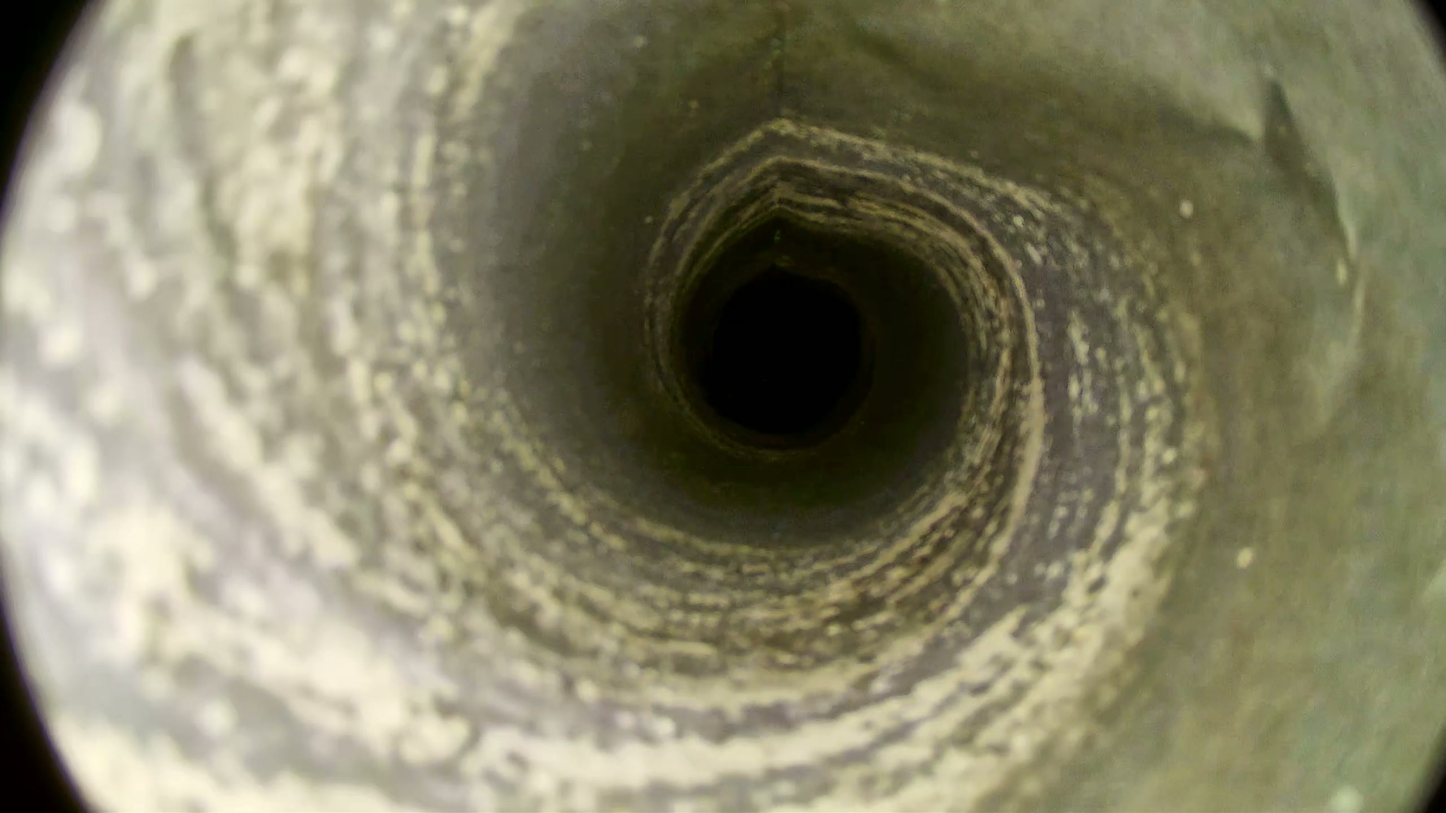hole: (714, 278, 860, 423)
